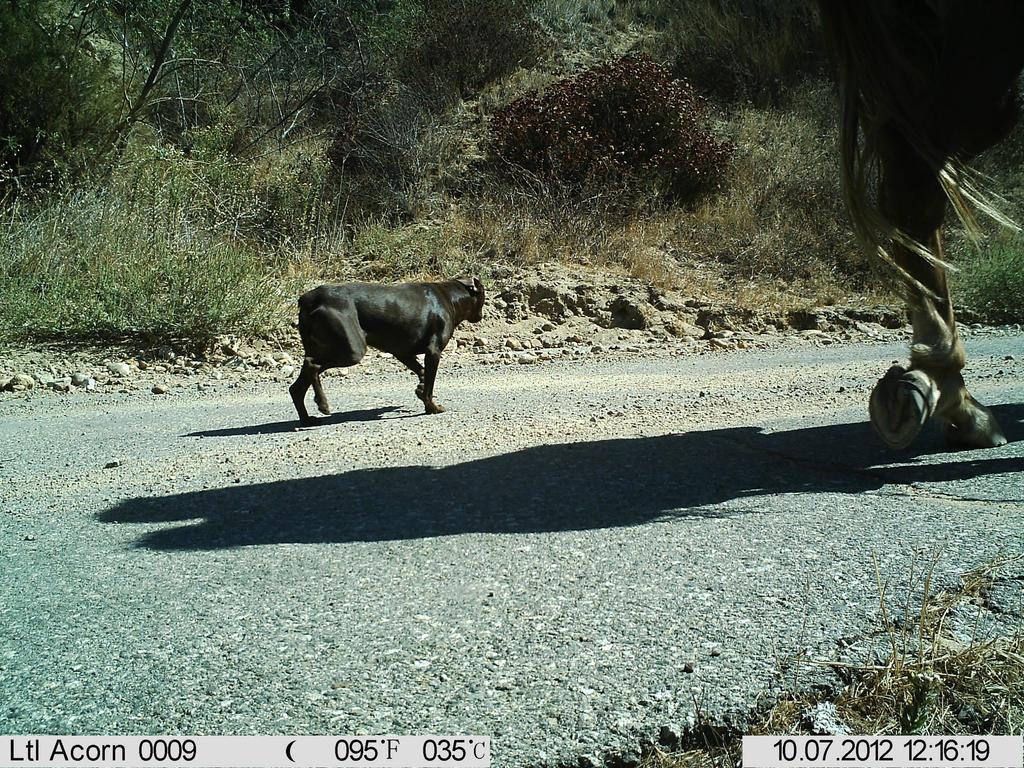dog: (257, 246, 507, 425)
